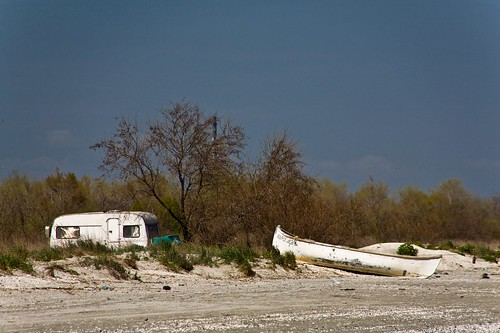boat: (258, 222, 440, 281)
sky: (1, 1, 498, 169)
tree: (100, 105, 247, 268), (235, 143, 345, 266)
van: (47, 214, 160, 264)
vegetation: (4, 180, 500, 261)
